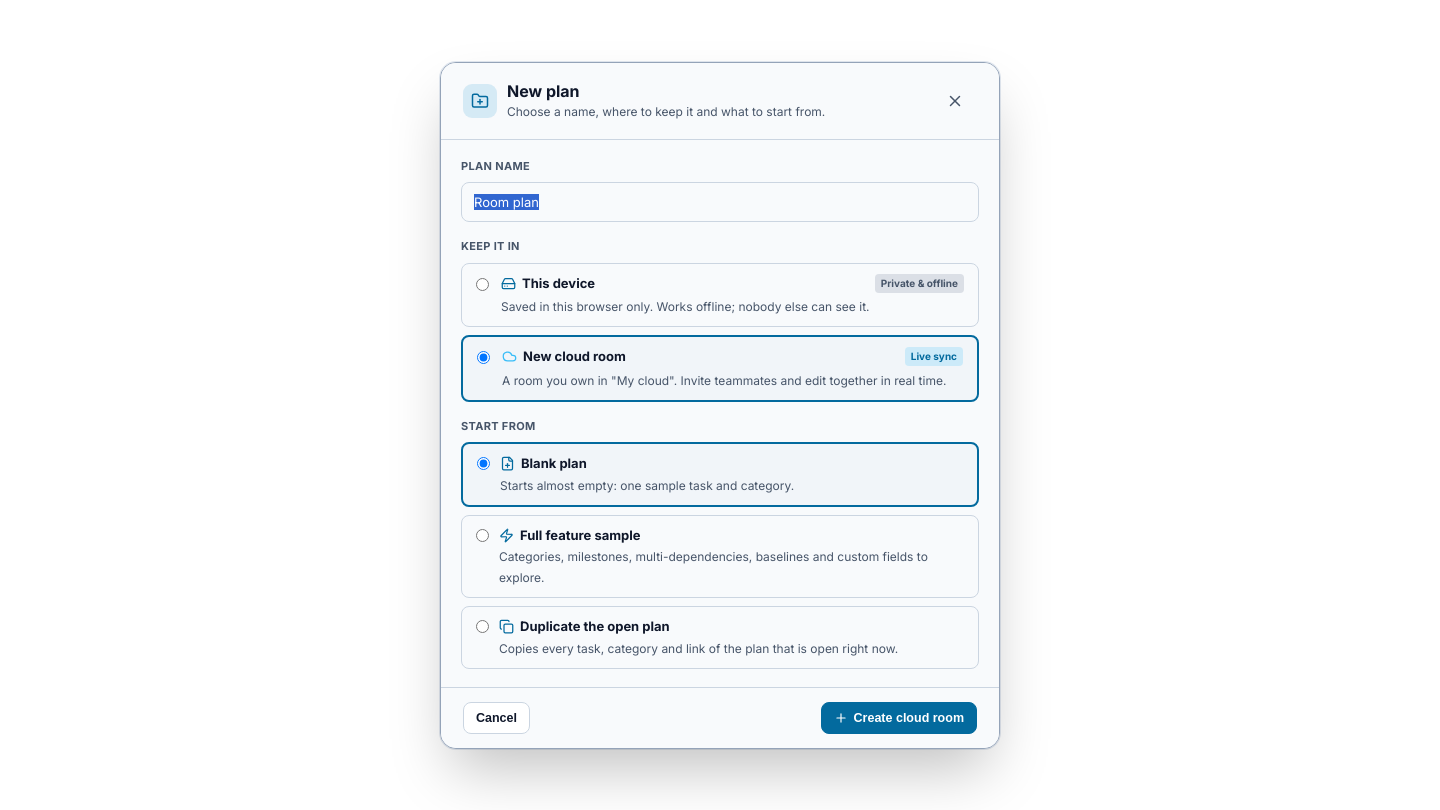
AddPlanModal › stays open with a message when the plan was not created
The image size is (1440, 810).
Step 1. Click the submit button → (899, 718), box [821,702,977,734]
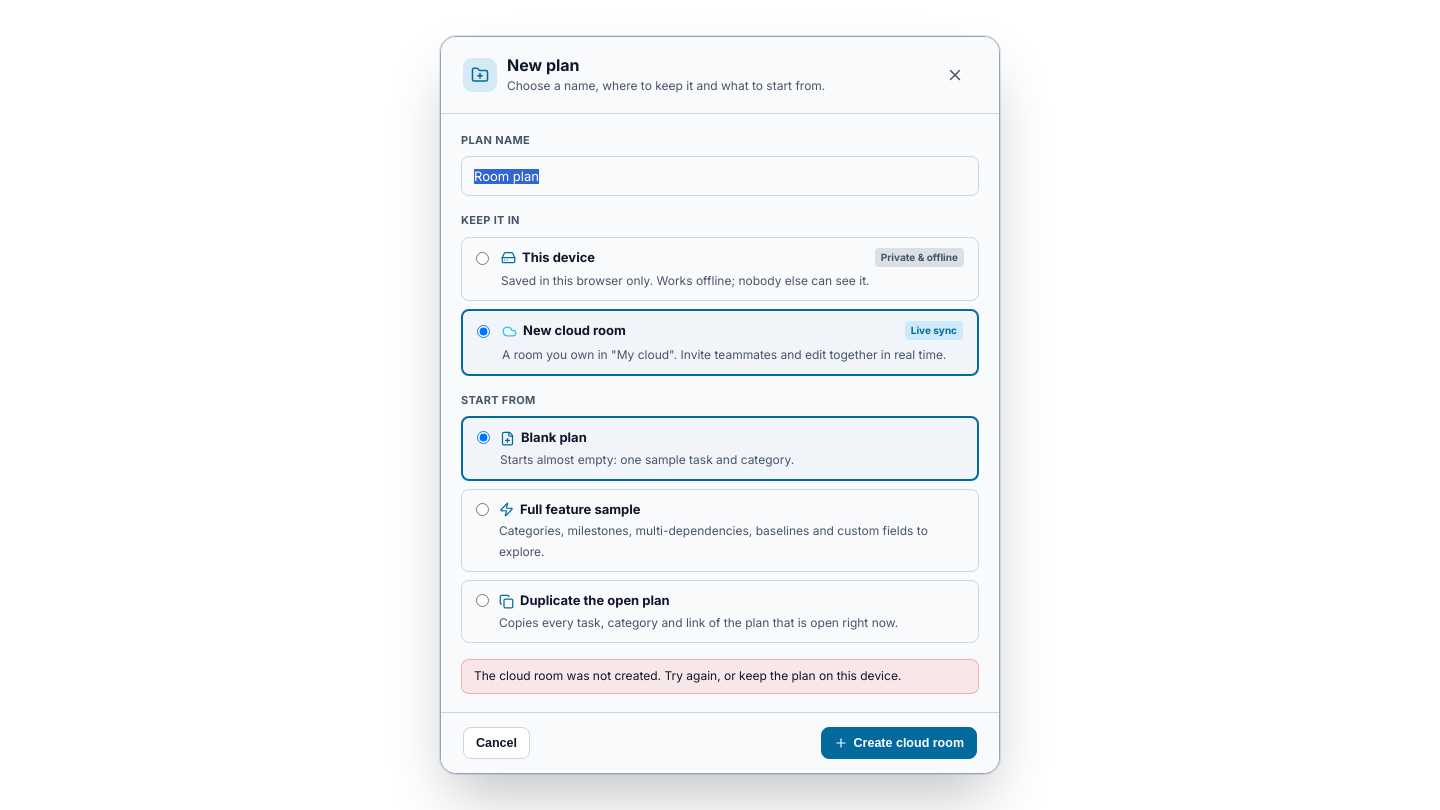
Check: the message "The cloud room was not created. Try again, or keep the plan on this device." is shown, box [461,659,979,694]
